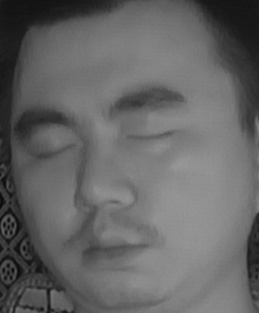blink: (124, 114, 176, 156), (30, 132, 78, 168)
mouth: (72, 219, 152, 276)
